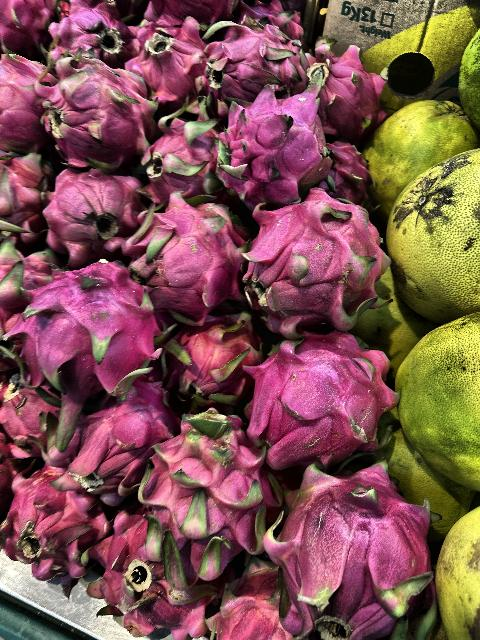buah-naga-belum-matang: (142, 411, 274, 591), (293, 463, 431, 633)
buah-naga-matang: (22, 264, 160, 428), (237, 198, 392, 332), (245, 336, 399, 466), (92, 500, 210, 640), (132, 198, 242, 330), (217, 88, 341, 198), (30, 54, 152, 164), (9, 468, 109, 582), (52, 402, 166, 498), (40, 164, 140, 262), (164, 322, 255, 408), (206, 26, 304, 104), (308, 46, 390, 132), (46, 2, 144, 64), (131, 21, 208, 98), (147, 113, 216, 195), (208, 586, 306, 640)
